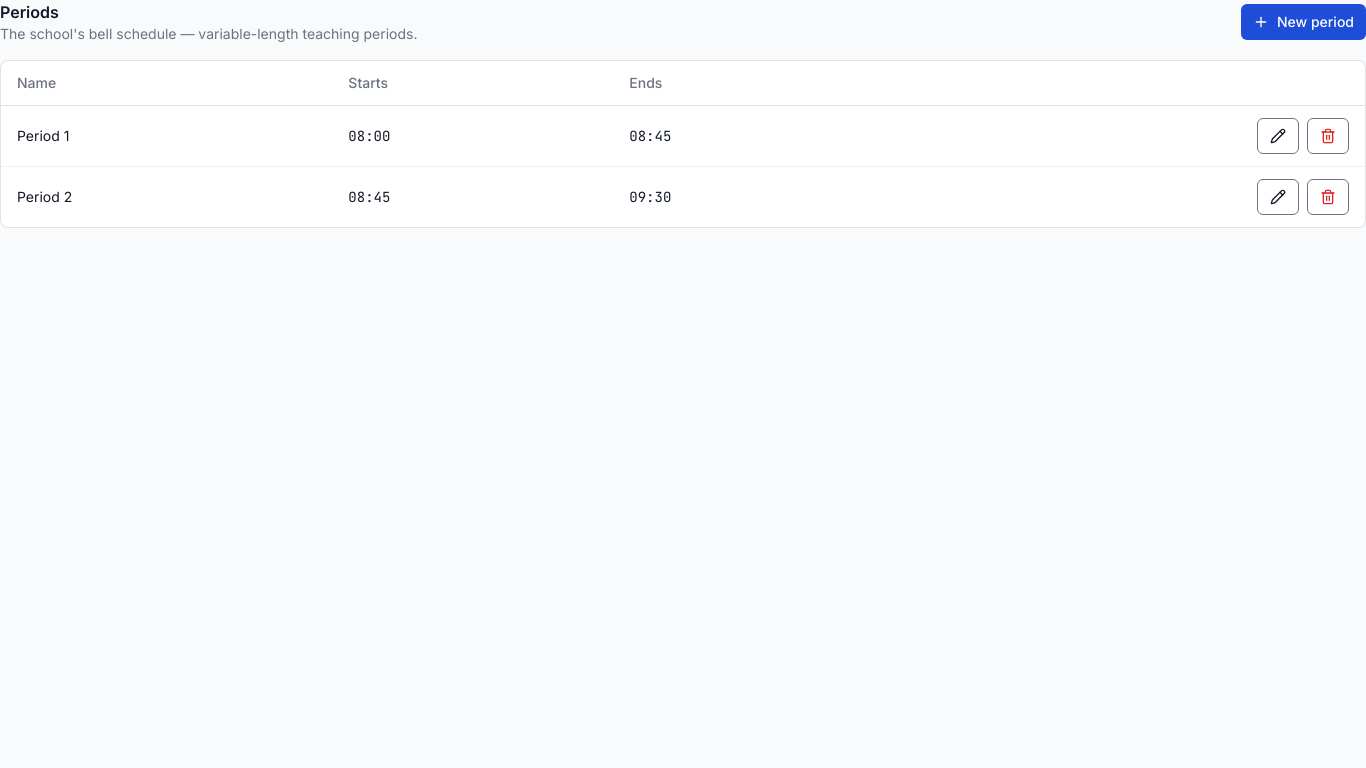
Test case: PeriodsSection › New period creates a period with the next sortOrder pre-filled
expect the text "Period 1" is shown: met, box [1,106,332,166]
Click the button "New period" at x=1304, y=22, box [1241,4,1365,40]
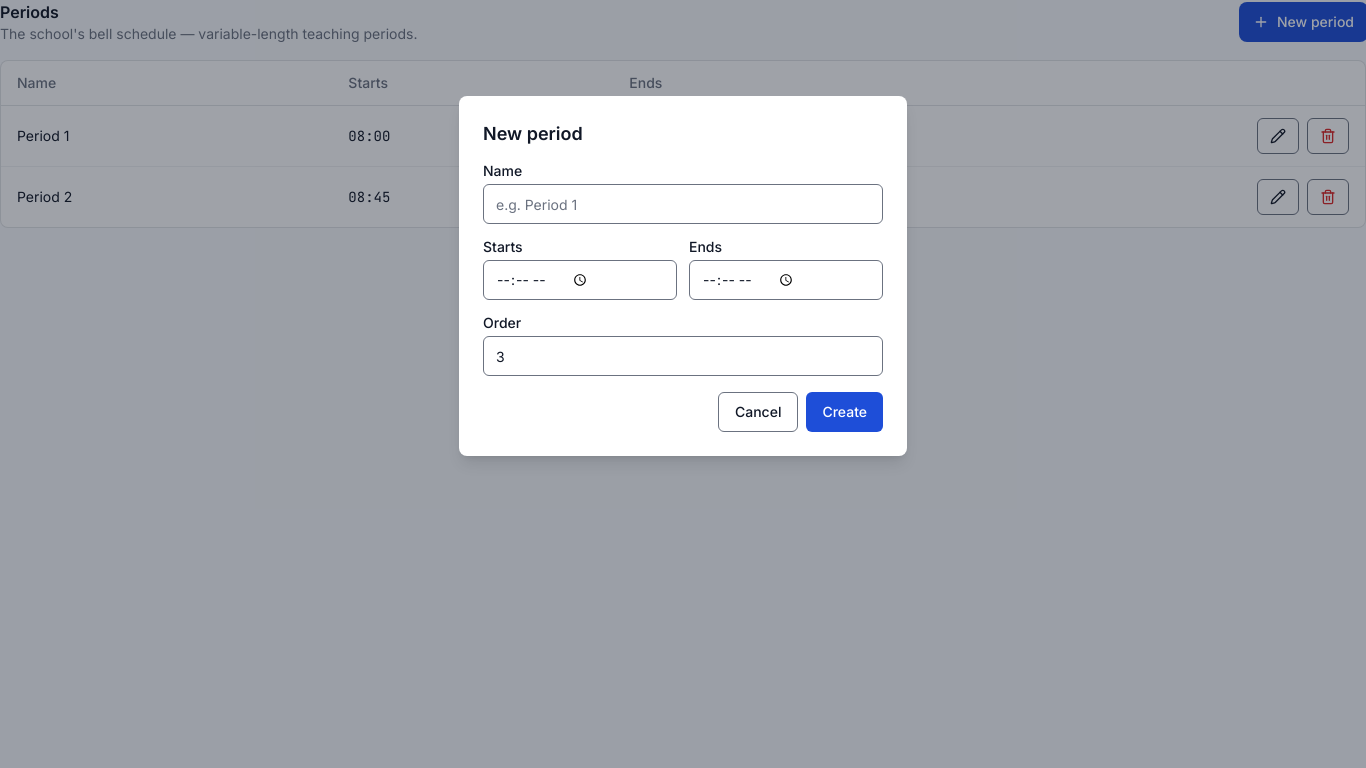
Type "Period 3" into the field labelled "Name" at x=683, y=204, box [483,184,883,224]
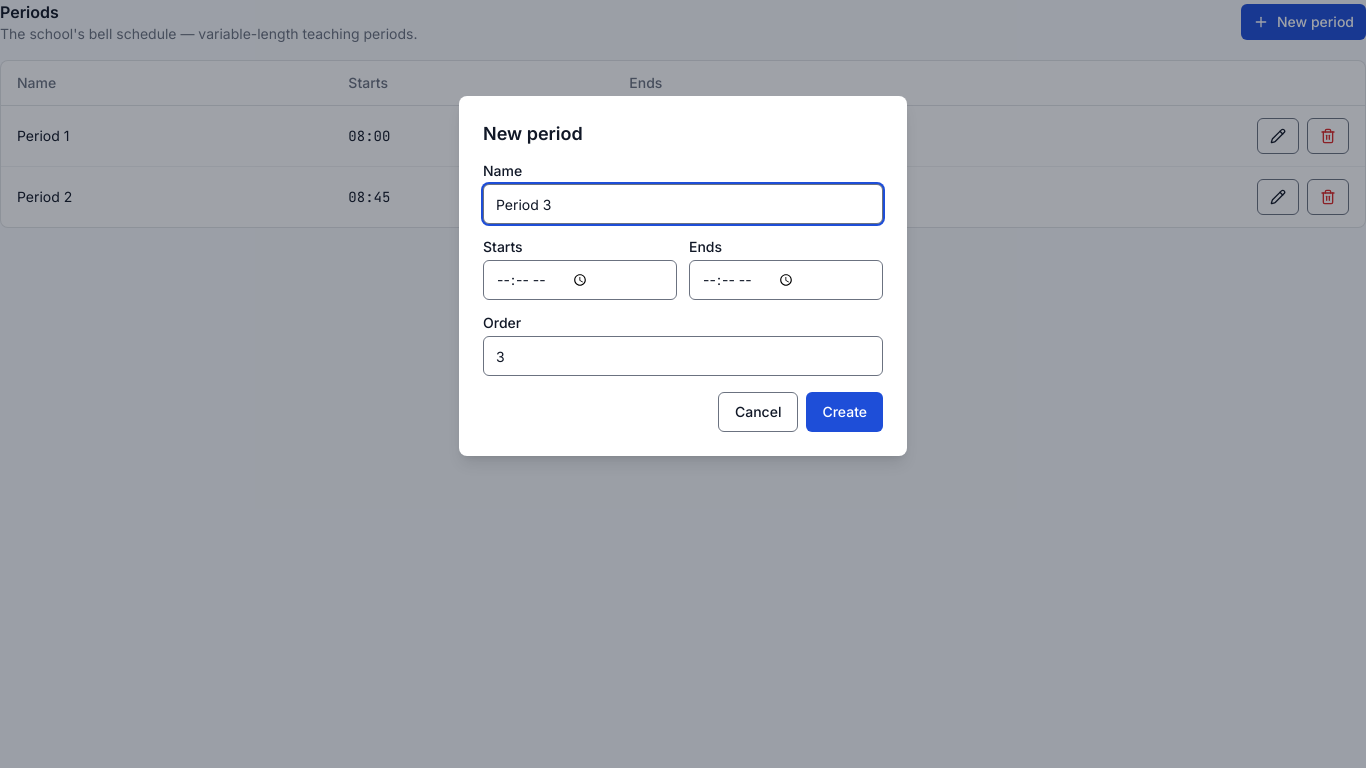
Type "09:30" into the time field labelled "Starts" at x=580, y=280, box [483,260,677,300]
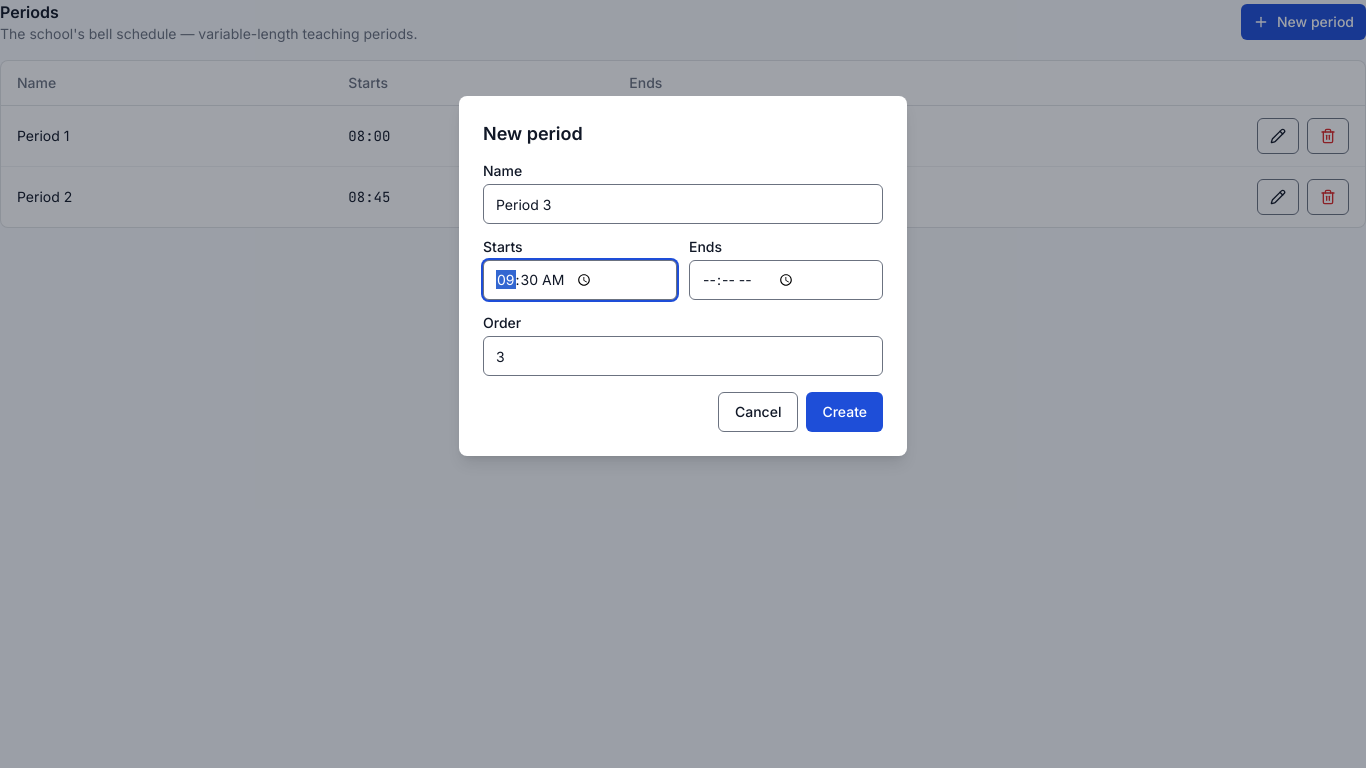
Type "10:15" into the time field labelled "Ends" at x=786, y=280, box [689,260,883,300]
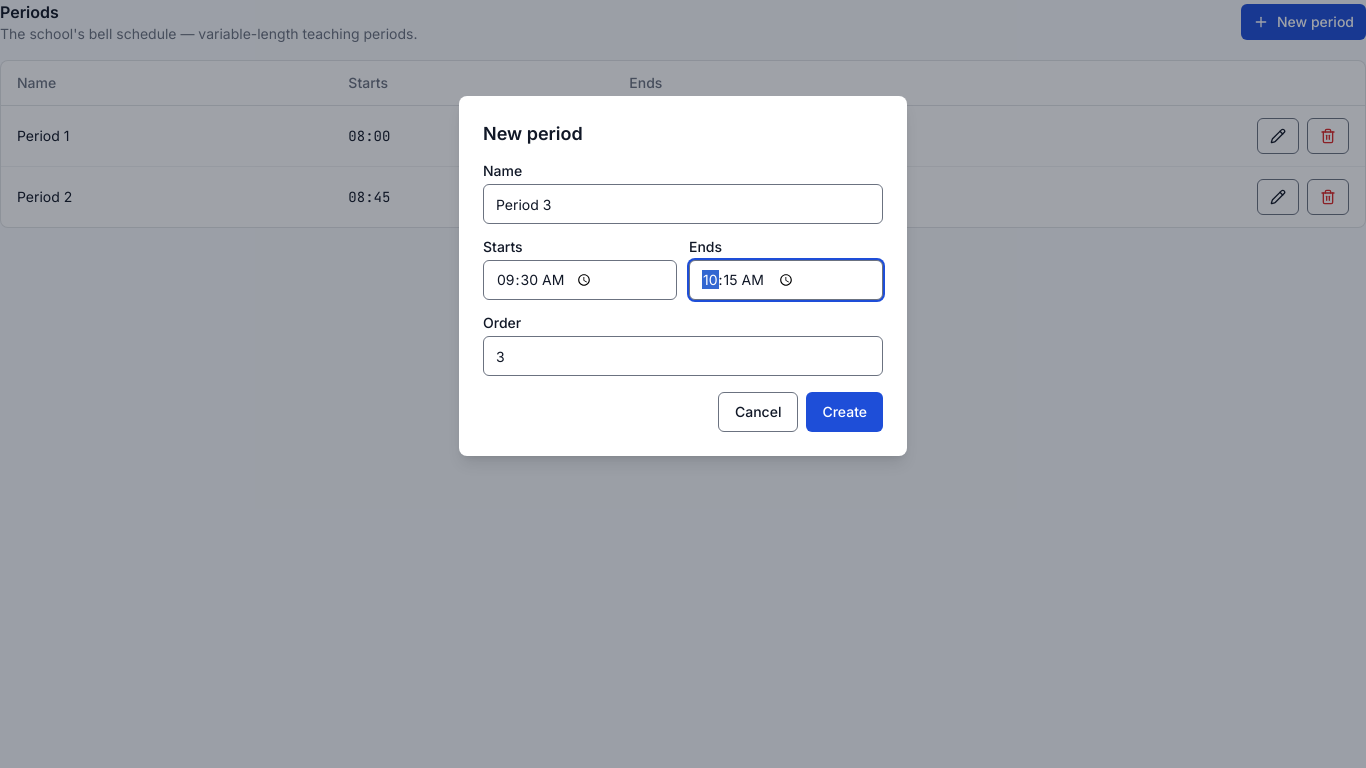
Click the button "Create" at x=845, y=412, box [806,392,883,432]
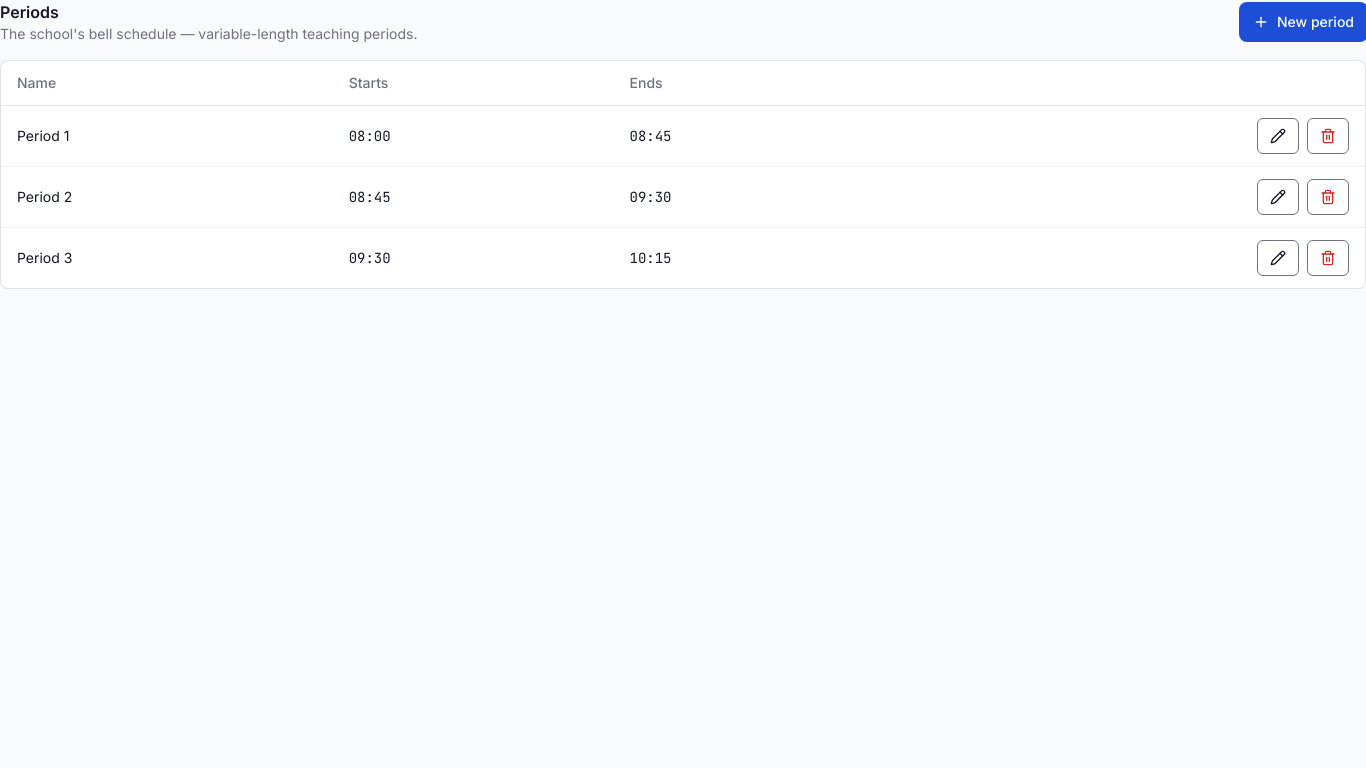
expect the text "Period 3" is shown: met, box [1,228,333,288]
